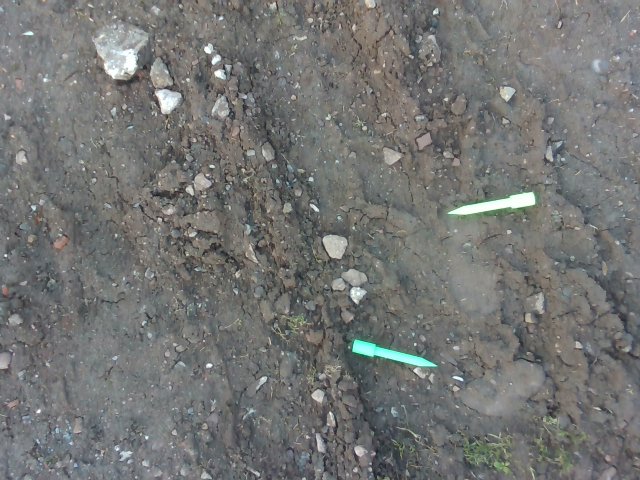Probe: (349, 337, 443, 372), (443, 187, 541, 220)
